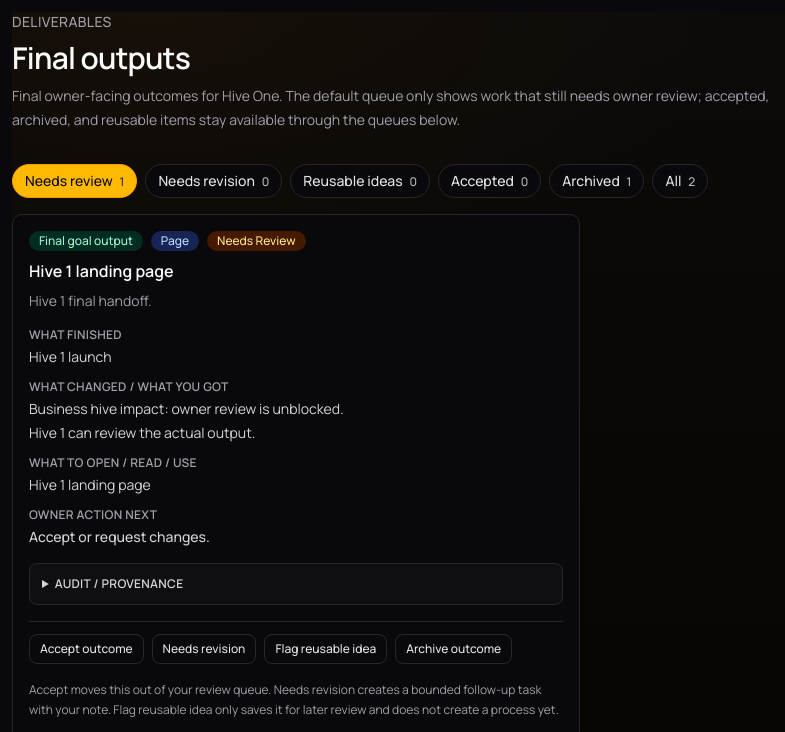
Test case: FinalOutputsPage › shows archived outputs only when the owner opts into the archived queue
This screenshot has width=785, height=732.
Expected: the text "Hive 1 launch" is shown, [29,347,112,366]
Expected: the text "Archived launch notes" is not shown
Click the button "Archived 1" at coordinates (597, 181), box [549,164,644,198]
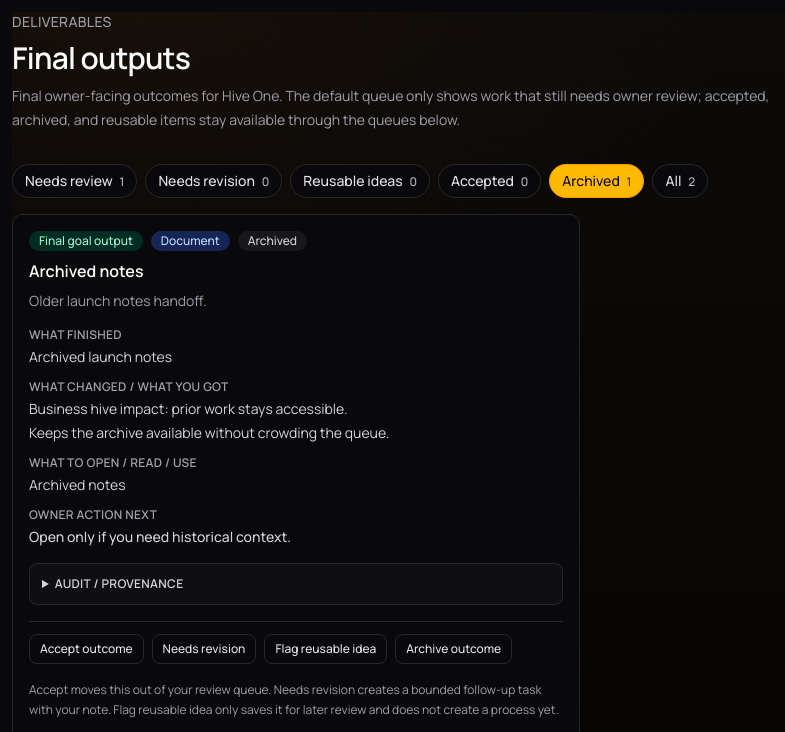
Expected: the text "Archived launch notes" is shown, [29,347,172,366]
Expected: the text "Hive 1 launch" is gone
